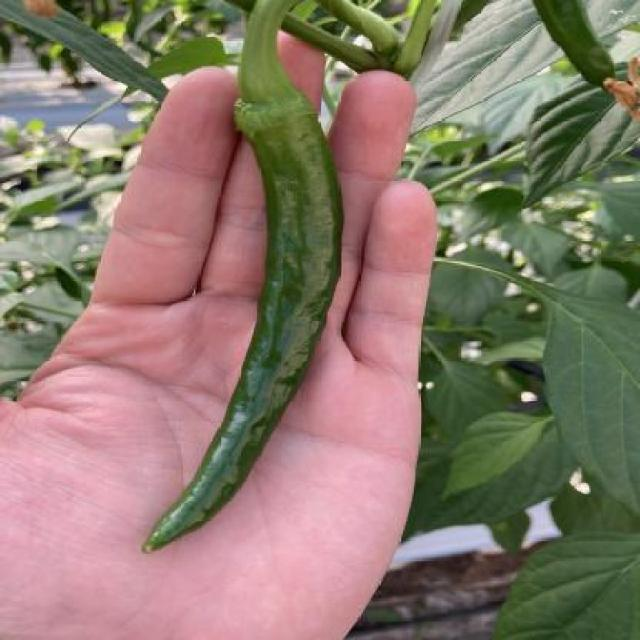green chilli: (142, 115, 344, 554)
